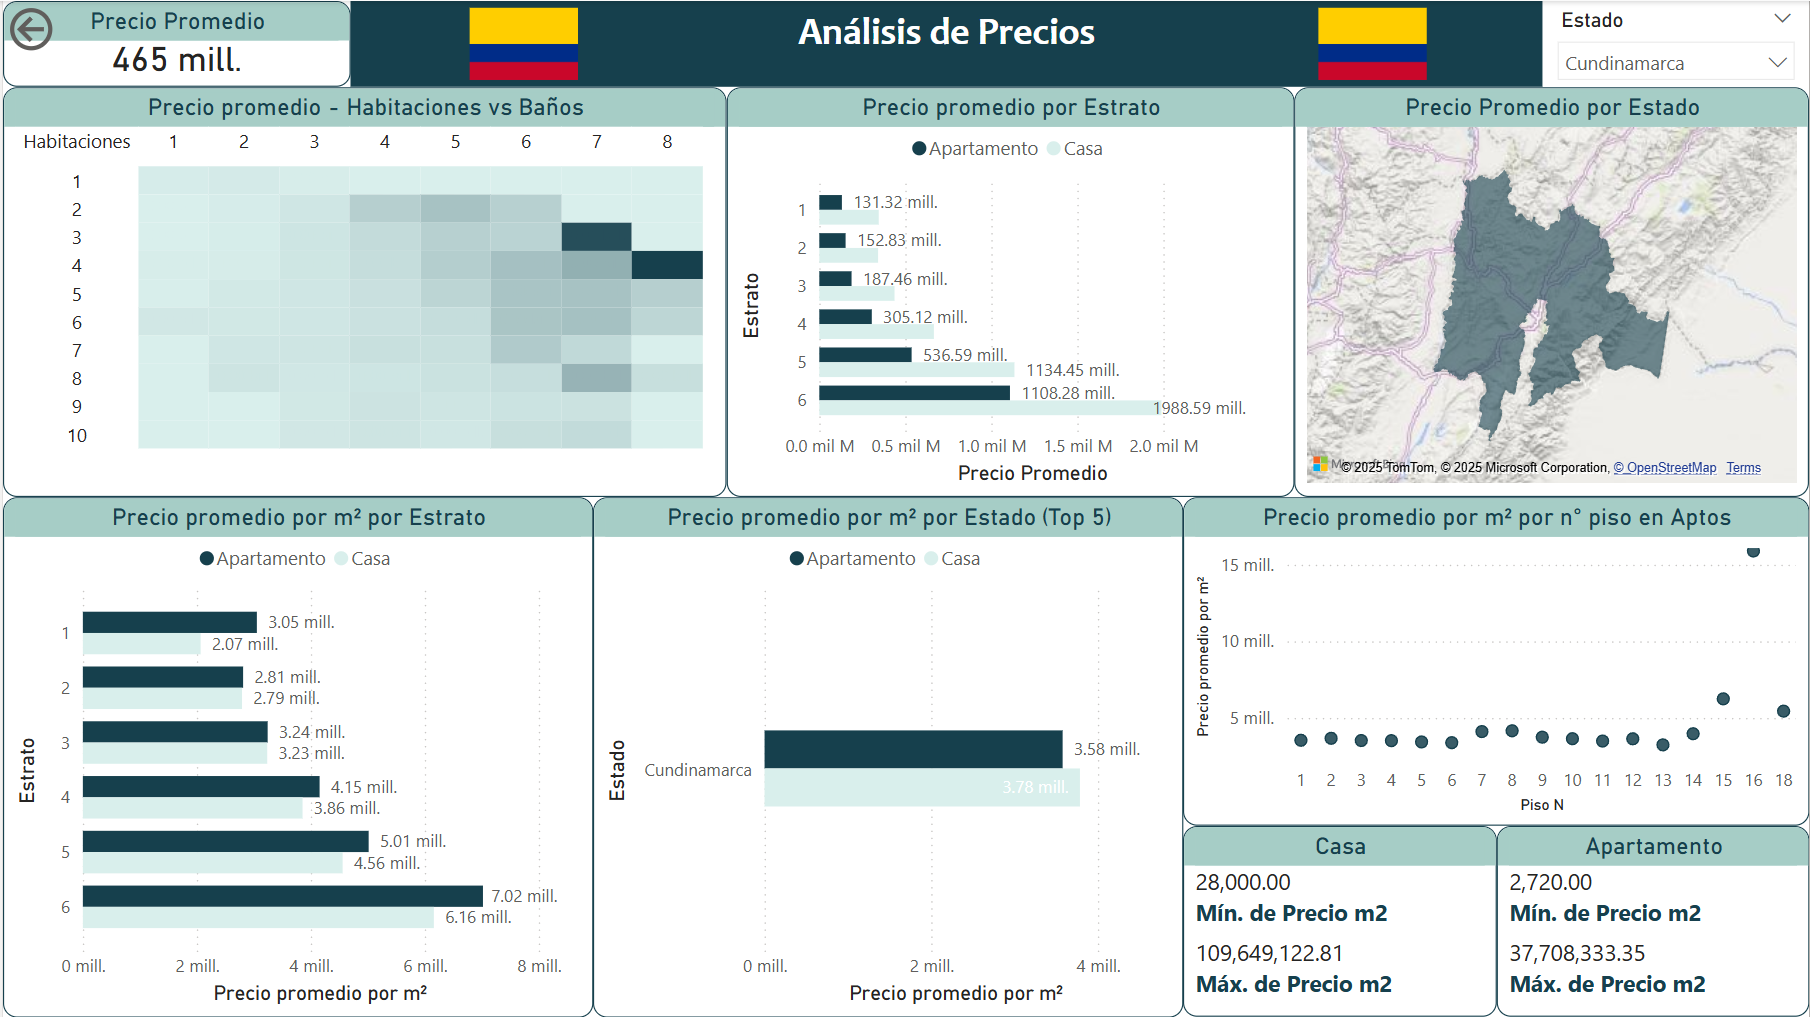

The dashboard page shown, as its layout file describes it:
{"tool":"powerbi","page":{"name":"Análisis de Precios","canvas":[1280,720],"ordinal":1},"visuals":[{"type":"slicer","fields":{"Values":["Props.Estado"]},"box":[1091.5,0,188.7,61.1],"z":0},{"type":"card","title":"Precio Promedio","fields":{"Values":["Avg(Props.Precio)"]},"box":[0,0,246.3,61.1],"z":1000},{"type":"textbox","box":[246.3,0,845.2,61.1],"z":2000},{"type":"clusteredBarChart","title":"Precio promedio por Estrato","fields":{"Category":["Props.Estrato"],"Y":["Avg(Props.Precio)"],"Series":["Props.Tipo Propiedad"]},"box":[513,61.1,402.2,290.6],"z":3000},{"type":"image","box":[901.9,0,137.3,61.1],"z":4000},{"type":"image","box":[300.3,0,137.3,61.1],"z":5000},{"type":"filledMap","title":"Precio Promedio por Estado","fields":{"Category":["Props.Estado"]},"box":[915.2,61.1,365,290.6],"z":6000},{"type":"actionButton","box":[0,0,100,40],"z":7000},{"type":"multiRowCard","title":"Casa","fields":{"Values":["Min(Props.Precio m2)","Max(Props.Precio m2)1"]},"box":[836.3,584.7,222.4,135.5],"z":8000},{"type":"clusteredBarChart","title":"Precio promedio por m² por Estrato","fields":{"Category":["Props.Estrato"],"Y":["Avg(Props.Precio m2)"],"Series":["Props.Tipo Propiedad"]},"box":[0,351.7,418.2,368.6],"z":9000},{"type":"clusteredBarChart","title":"Precio promedio por m² por Estado (Top 5)","fields":{"Category":["Props.Estado"],"Y":["Avg(Props.Precio m2)"],"Series":["Props.Tipo Propiedad"]},"box":[418.2,351.7,418.2,368.6],"z":10000},{"type":"scatterChart","title":"Precio promedio por m² por n° piso en Aptos","fields":{"Series":["Props.Tipo Propiedad"],"Y":["Avg(Props.Precio m2)"],"X":["Props.Piso N"]},"box":[836.3,351.7,443.9,233],"z":11000},{"type":"multiRowCard","title":"Apartamento","fields":{"Values":["Min(Props.Precio m2)","Max(Props.Precio m2)1"]},"box":[1058.7,584.7,221.5,135.5],"z":12000},{"type":"pivotTable","title":"Precio promedio - Habitaciones vs Baños","fields":{"Columns":["Props.Banos"],"Rows":["Props.Habitaciones"],"Values":["Avg(Props.Precio)"]},"box":[0,61.1,513,290.6],"z":13000}]}

Visuals, with their boxes in screenshot pixels (x1, y1, x2, y2), scaled from the page's 1280x720 canvas onto the 1810x1017 screenshot:
slicer - Props.Estado: left=1543, top=0, right=1809, bottom=86
"Precio Promedio" card: left=0, top=0, right=348, bottom=86
textbox: left=348, top=0, right=1543, bottom=86
"Precio promedio por Estrato" clusteredBarChart: left=725, top=86, right=1294, bottom=497
image: left=1275, top=0, right=1469, bottom=86
image: left=425, top=0, right=619, bottom=86
"Precio Promedio por Estado" filledMap: left=1294, top=86, right=1809, bottom=497
actionButton: left=0, top=0, right=141, bottom=56
"Casa" multiRowCard: left=1183, top=826, right=1497, bottom=1016
"Precio promedio por m² por Estrato" clusteredBarChart: left=0, top=497, right=591, bottom=1016
"Precio promedio por m² por Estado (Top 5)" clusteredBarChart: left=591, top=497, right=1183, bottom=1016
"Precio promedio por m² por n° piso en Aptos" scatterChart: left=1183, top=497, right=1809, bottom=826
"Apartamento" multiRowCard: left=1497, top=826, right=1809, bottom=1016
"Precio promedio - Habitaciones vs Baños" pivotTable: left=0, top=86, right=725, bottom=497
